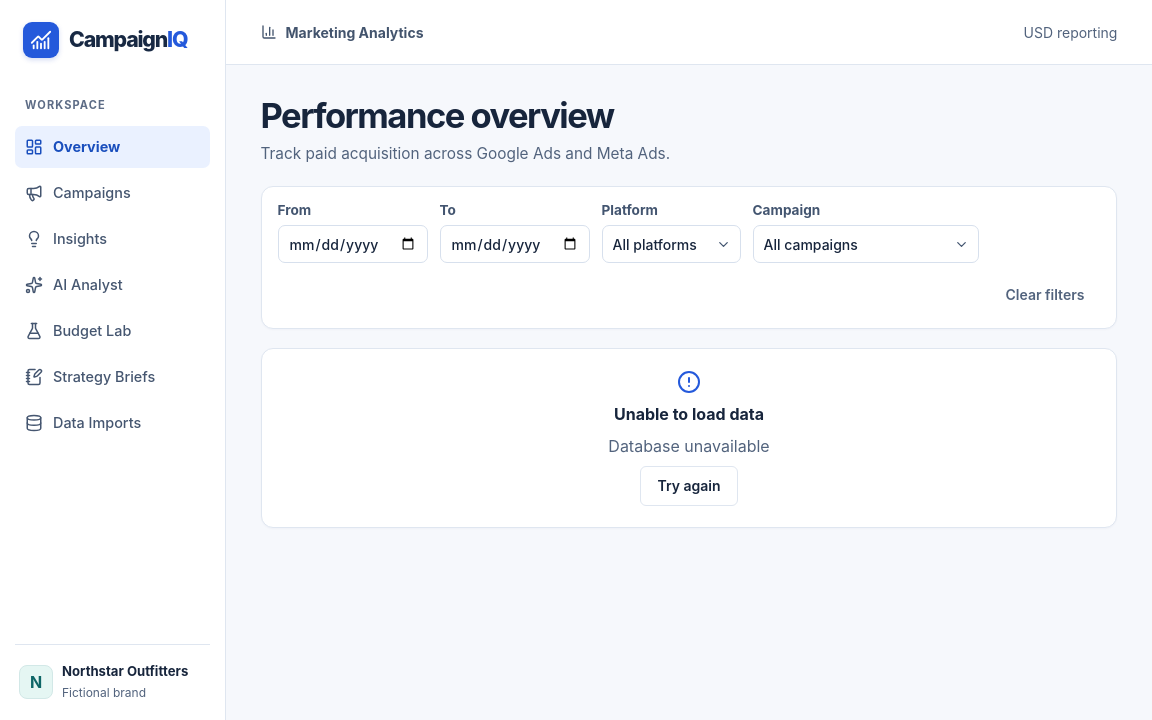
Test: overview › shows an API error and retries successfully
Expected: the message shows "Database unavailable", [608,436,770,456]
Click the button "Try again": point(689, 486) [640,466,738,506]
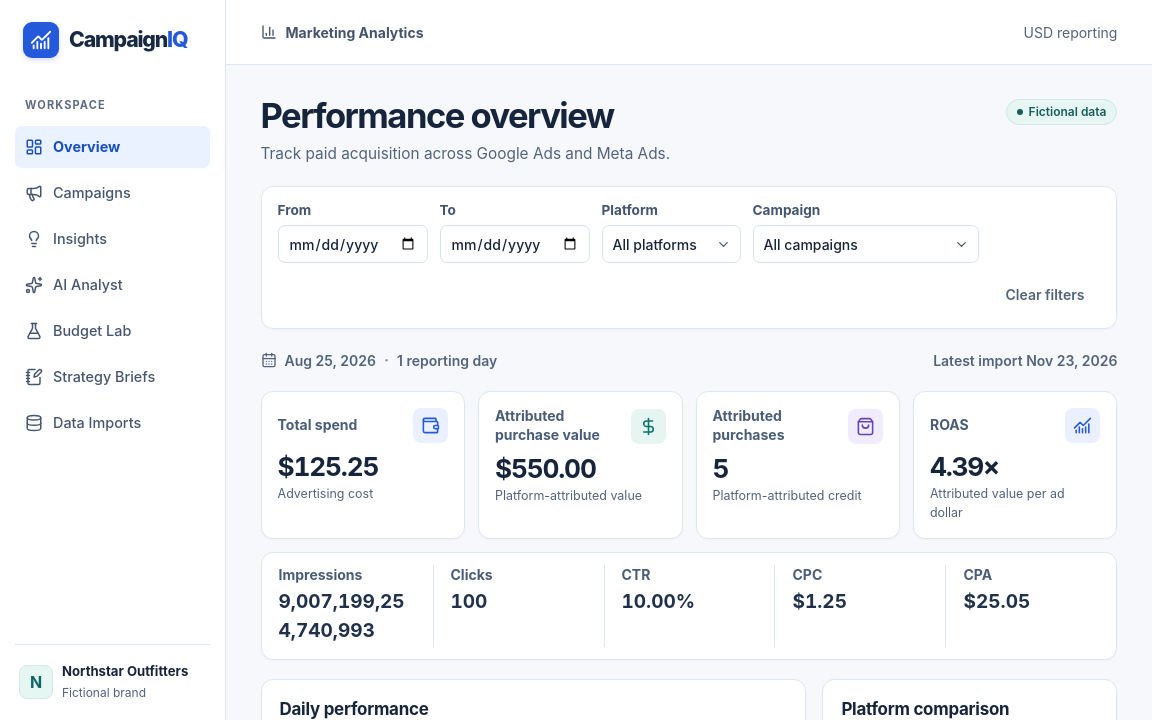
Expected: the element named "Performance metrics" is shown, [260,391,1117,660]
